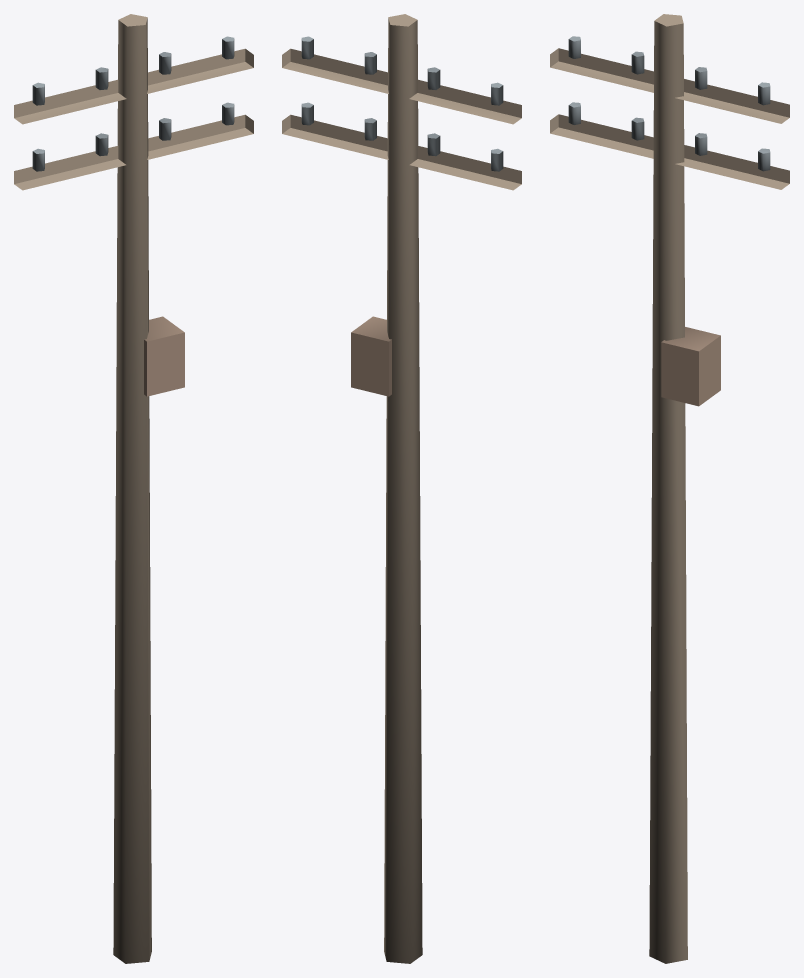
The model's file is utility_pole.lod2.glb.
3 renders of one model, left to right at view 1: azimuth 30°, elevation 25°; view 2: azimuth 150°, elevation 25°; view 3: azimuth 330°, elevation 25°, orthographic.
Parts seen in each view (by area): view 1: props_utility_pole.lod2; view 2: props_utility_pole.lod2; view 3: props_utility_pole.lod2.
Boxes of the visible parts, bbox=[...] form: props_utility_pole.lod2: bbox=[14, 14, 253, 963]; props_utility_pole.lod2: bbox=[282, 14, 521, 963]; props_utility_pole.lod2: bbox=[550, 14, 789, 963].
Bounding box in the file's own units: 2.2 × 8.5 × 0.3601.
